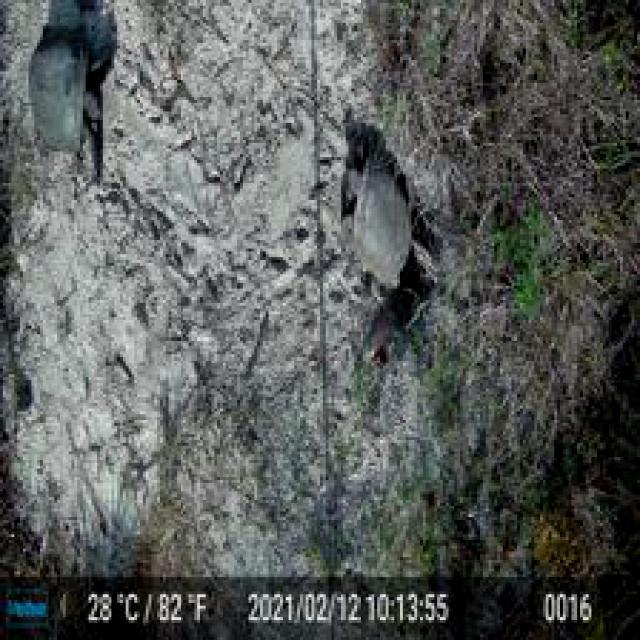tortoise: (23, 23, 109, 169), (337, 149, 414, 297)
